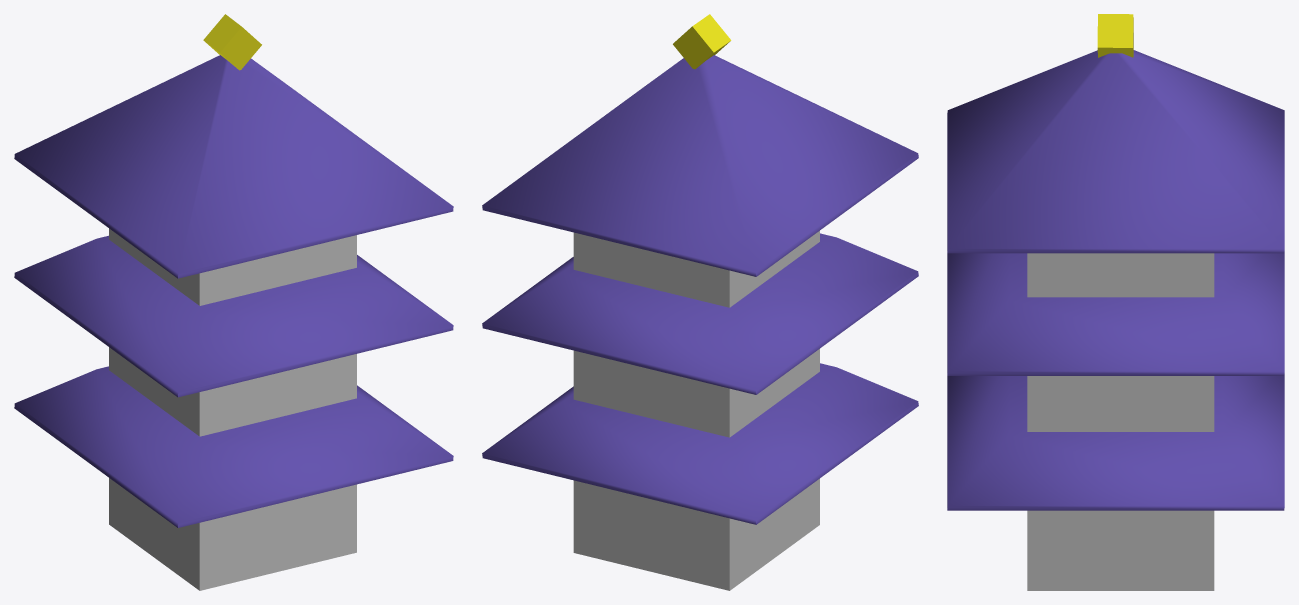
File: placeholder_2.fbx
3 renders of one model, left to right at view 1: azimuth 30°, elevation 25°; view 2: azimuth 150°, elevation 25°; view 3: azimuth 270°, elevation 25°, orthographic. The views are drawn at different scales.
Visible parts, largest first — view 1: Cube.3, Cube.2, Cube.1, Cube, Cube.4; view 2: Cube.3, Cube, Cube.1, Cube.2, Cube.4; view 3: Cube.3, Cube.1, Cube, Cube.2, Cube.4.
Part boxes in pixels (x1=…): Cube.3: x1=14, y1=55, x2=453, y2=278; Cube.2: x1=14, y1=235, x2=453, y2=397; Cube.1: x1=14, y1=366, x2=453, y2=527; Cube: x1=109, y1=228, x2=356, y2=590; Cube.4: x1=203, y1=14, x2=261, y2=70; Cube.3: x1=482, y1=55, x2=918, y2=276; Cube: x1=573, y1=231, x2=819, y2=590; Cube.1: x1=482, y1=363, x2=918, y2=524; Cube.2: x1=482, y1=233, x2=918, y2=394; Cube.4: x1=673, y1=14, x2=731, y2=69; Cube.3: x1=947, y1=50, x2=1284, y2=253; Cube.1: x1=947, y1=374, x2=1284, y2=510; Cube: x1=1027, y1=253, x2=1214, y2=590; Cube.2: x1=947, y1=251, x2=1284, y2=375; Cube.4: x1=1097, y1=14, x2=1133, y2=57.
Bounding box in the file's own units: 351 × 633 × 361.
